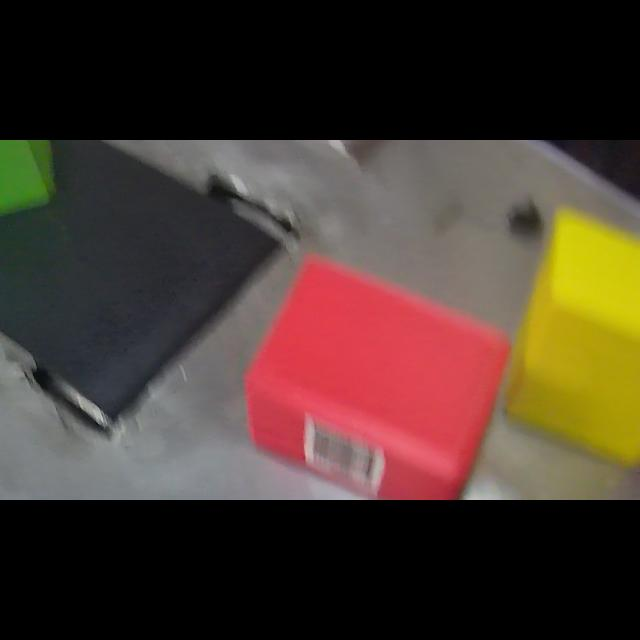greenBox: (0, 140, 68, 246)
redBox: (242, 246, 510, 499)
yellowBox: (504, 202, 640, 476)
